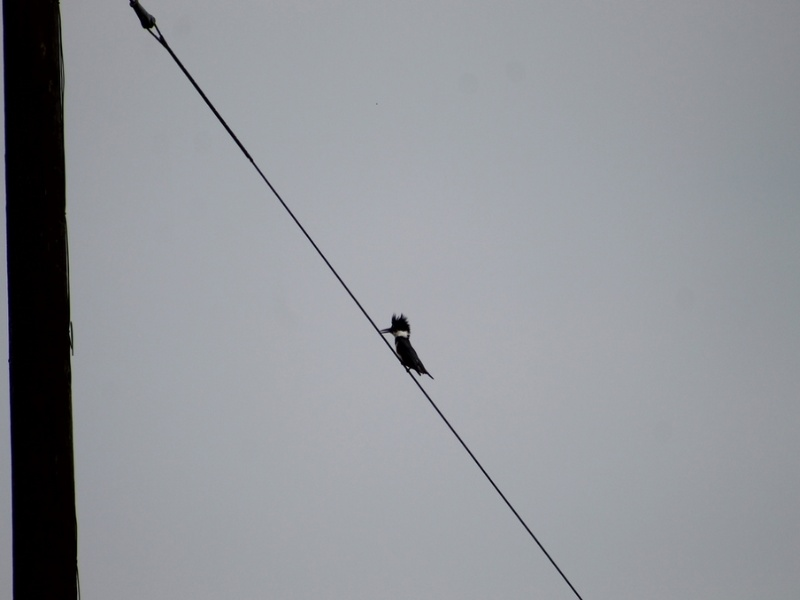kingfisher: (378, 312, 434, 379)
